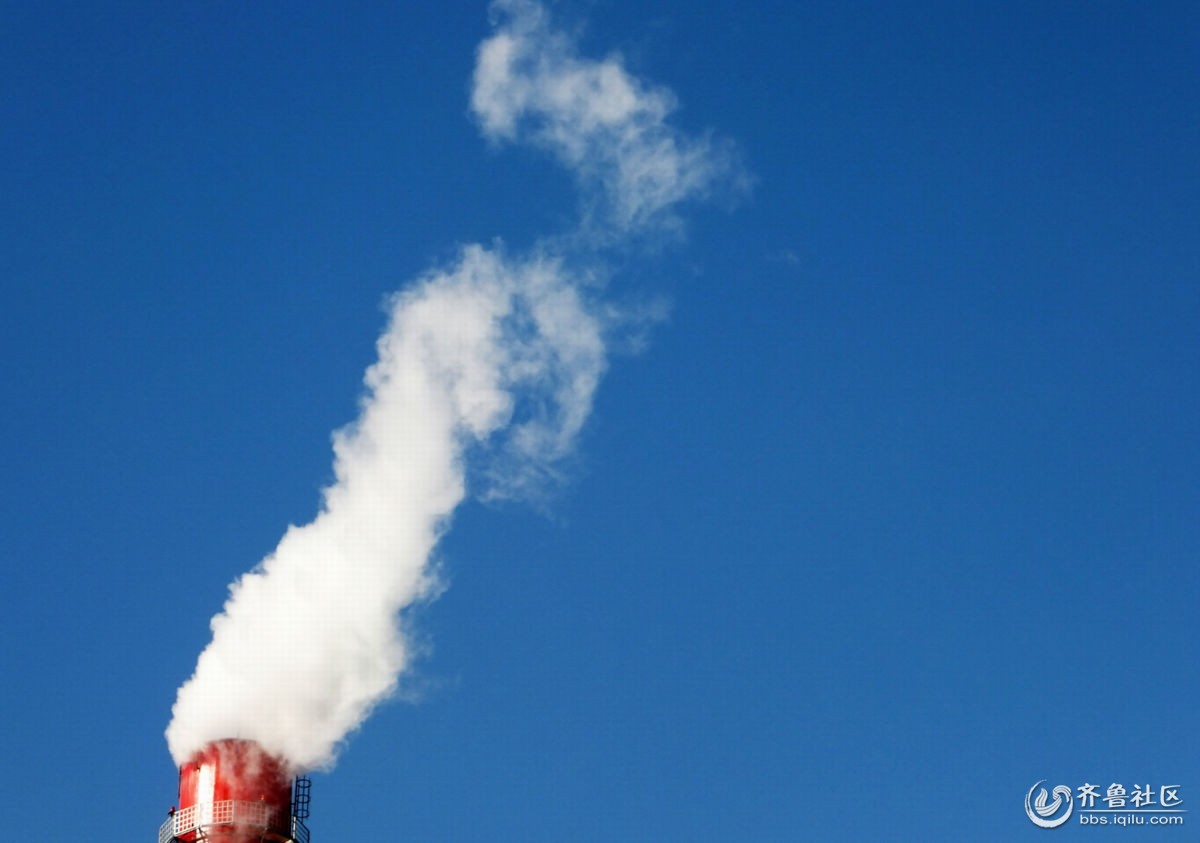dust: (159, 368, 520, 760)
